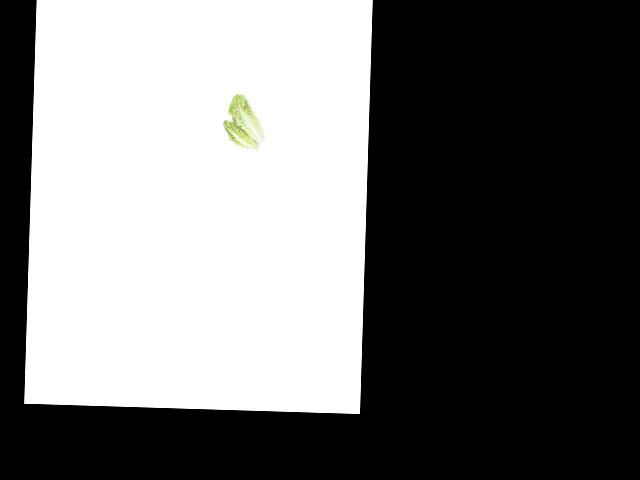lettuce: (225, 93, 267, 139)
